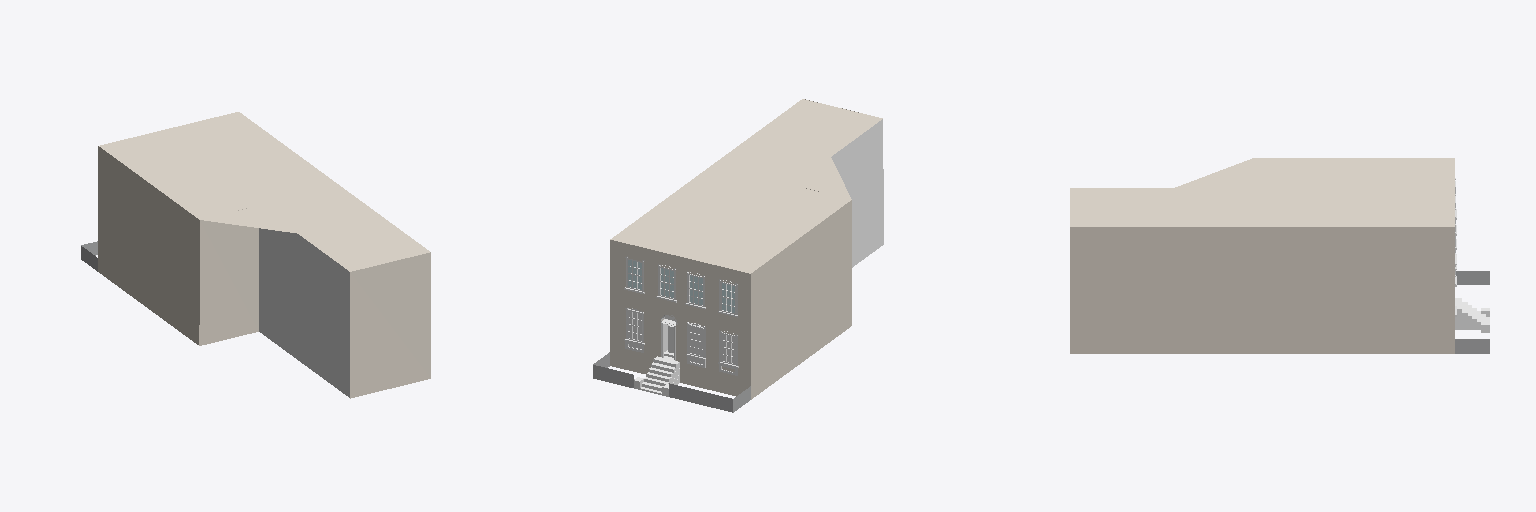
File: marble_4.obj
3 renders of one model, left to right at view 1: azimuth 30°, elevation 25°; view 2: azimuth 150°, elevation 25°; view 3: azimuth 270°, elevation 25°, orthographic.
Visible parts, largest first — view 1: Mesh10 Model, Mesh23 Model, Mesh22 Model; view 2: Mesh10 Model; view 3: Mesh10 Model.
Boxes of the visible parts, box(x1,y1,x2,y2) form: Mesh10 Model: box(81, 112, 430, 397); Mesh23 Model: box(350, 252, 430, 398); Mesh22 Model: box(200, 208, 258, 344); Mesh10 Model: box(593, 99, 883, 412); Mesh10 Model: box(1070, 158, 1489, 353).
Size of the model in its own units: 482 by 415 by 1245.